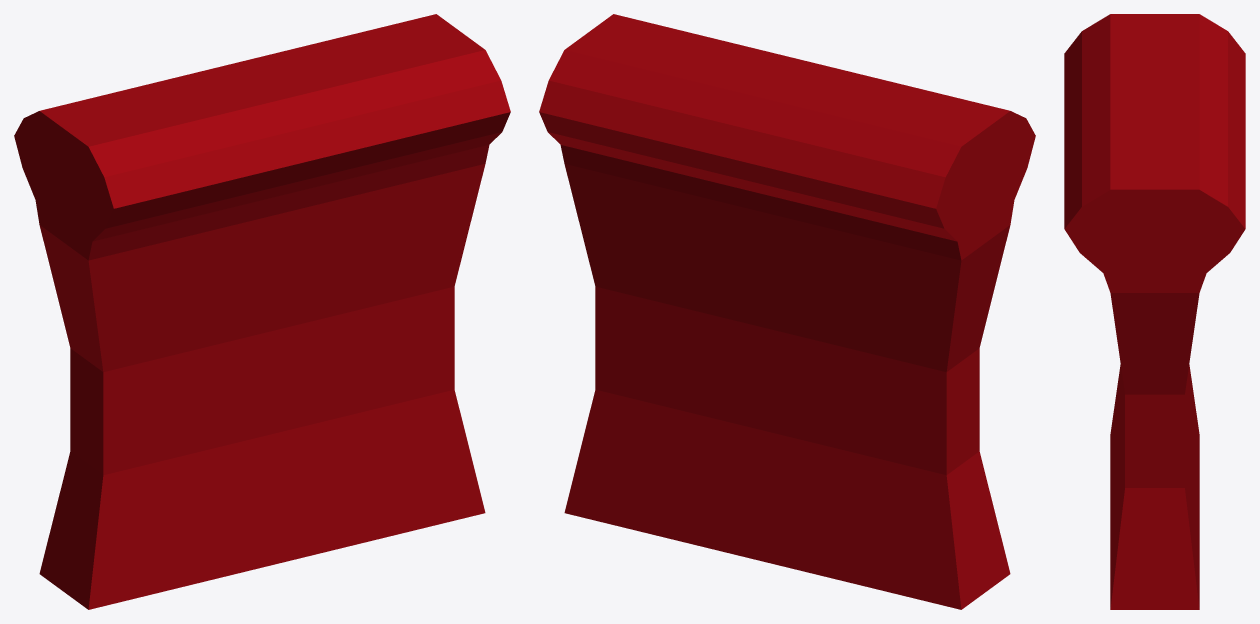
The model's file is InteractModuleSwitch.fbx.
3 views of the same model, side by side, from view 1: azimuth 30°, elevation 25°; view 2: azimuth 150°, elevation 25°; view 3: azimuth 270°, elevation 25° (orthographic). The views are drawn at different scales.
Parts seen in each view (by area): view 1: InteractModuleSwitch; view 2: InteractModuleSwitch; view 3: InteractModuleSwitch.
Boxes of the visible parts, box(x1,y1,x2,y2) form: InteractModuleSwitch: box(14, 14, 510, 609); InteractModuleSwitch: box(539, 14, 1035, 609); InteractModuleSwitch: box(1064, 14, 1245, 609).
Size of the model in its own units: 7.36 by 8.2 by 3.2.
